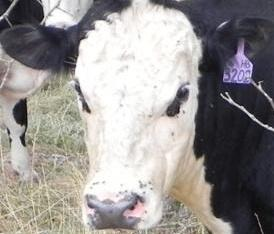muzzles: (78, 183, 163, 231)
